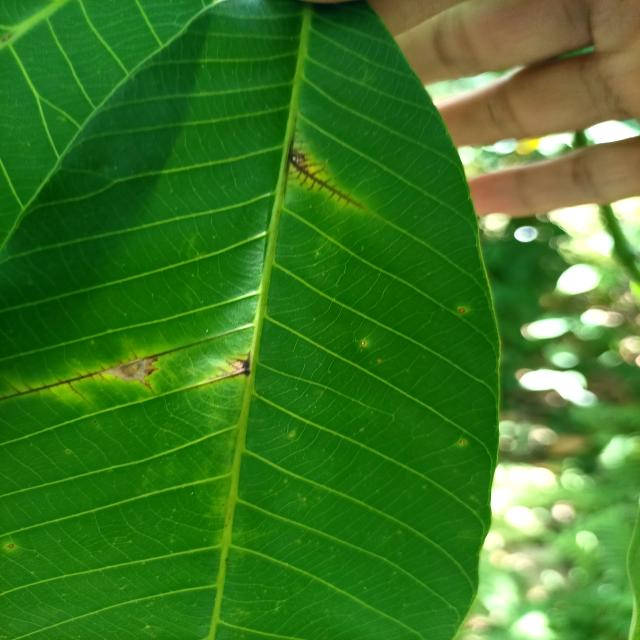Colletotrichum: (458, 308, 465, 314), (360, 341, 366, 346)
Corynespora: (282, 138, 364, 212), (0, 366, 106, 404), (207, 352, 251, 384)
Leaf-Blight: (103, 356, 158, 382)
